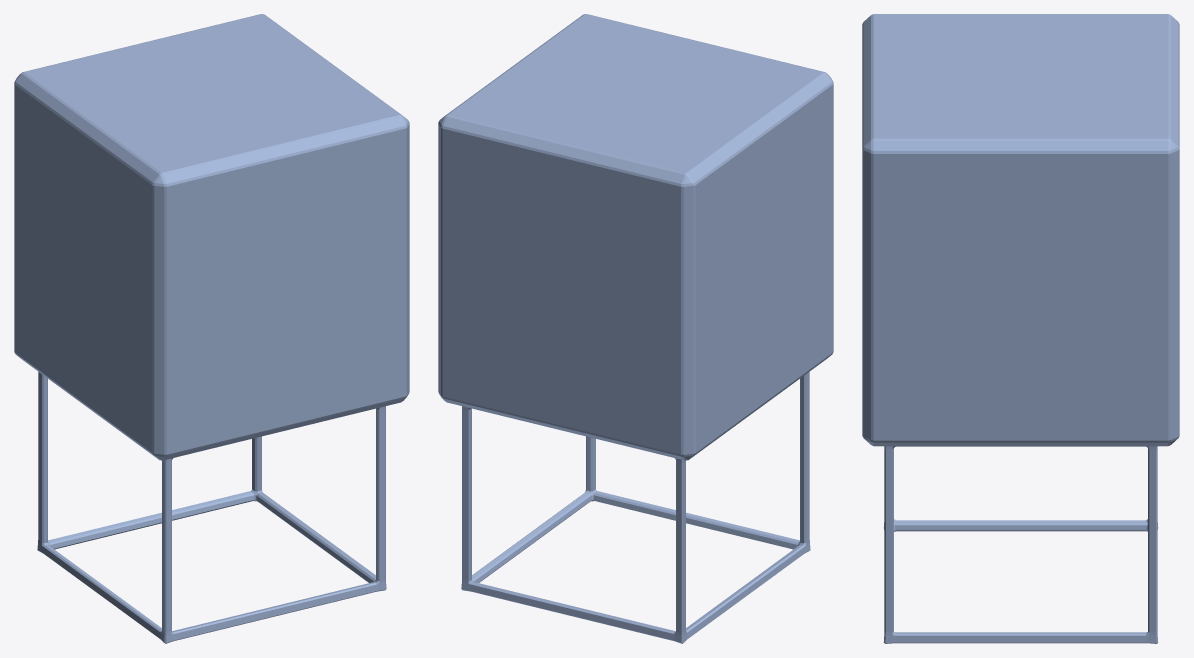
File: Building_Roof_deco_2.fbx
3 views of the same model, side by side, from view 1: azimuth 30°, elevation 25°; view 2: azimuth 150°, elevation 25°; view 3: azimuth 270°, elevation 25° (orthographic). The views are drawn at different scales.
Visible parts, largest first — view 1: Building_Roof_deco_2; view 2: Building_Roof_deco_2; view 3: Building_Roof_deco_2.
Boxes of the visible parts, bbox=[...] form: Building_Roof_deco_2: bbox=[14, 14, 409, 643]; Building_Roof_deco_2: bbox=[438, 14, 833, 643]; Building_Roof_deco_2: bbox=[862, 14, 1179, 643].
Bounding box in the file's own units: 200 × 355 × 200.
